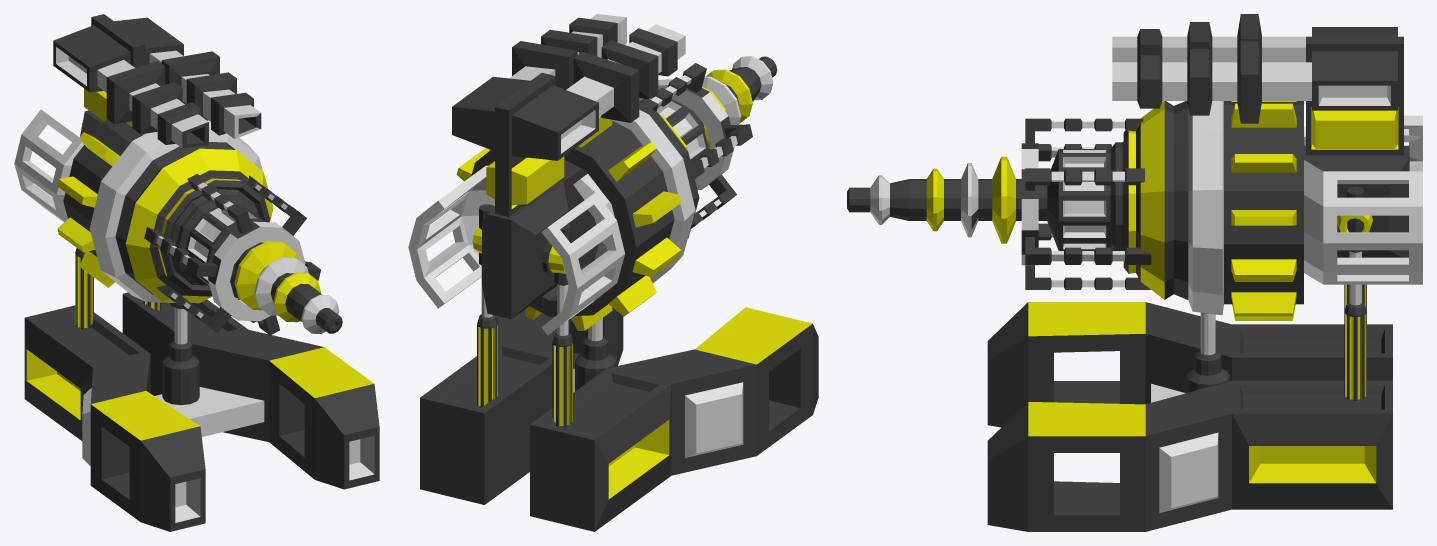
Rendered from tower7_3.fbx.
The picture shows the model from 3 angles, left to right: view 1: azimuth 30°, elevation 25°; view 2: azimuth 150°, elevation 25°; view 3: azimuth 270°, elevation 25°; orthographic projection. The views are drawn at different scales.
Parts seen in each view (by area): view 1: polySurface80; view 2: polySurface80; view 3: polySurface80.
Part boxes in pixels (x1,y1,x2,y2): polySurface80: (14,14,379,531); polySurface80: (408,14,818,531); polySurface80: (847,14,1422,531).
Bounding box in the file's own units: 0.4945 × 0.7306 × 0.8975.
